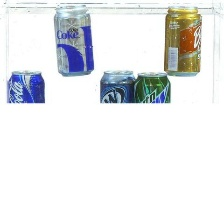can: (49, 3, 95, 78), (160, 4, 204, 79), (6, 67, 44, 105), (133, 69, 172, 105), (97, 68, 134, 104)
